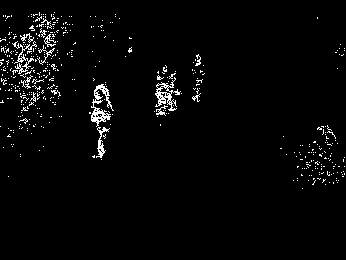person: (90, 82, 114, 159), (187, 53, 207, 103)
